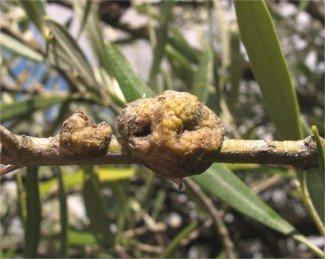Tuberculosis: (116, 88, 226, 182), (58, 109, 114, 160)
